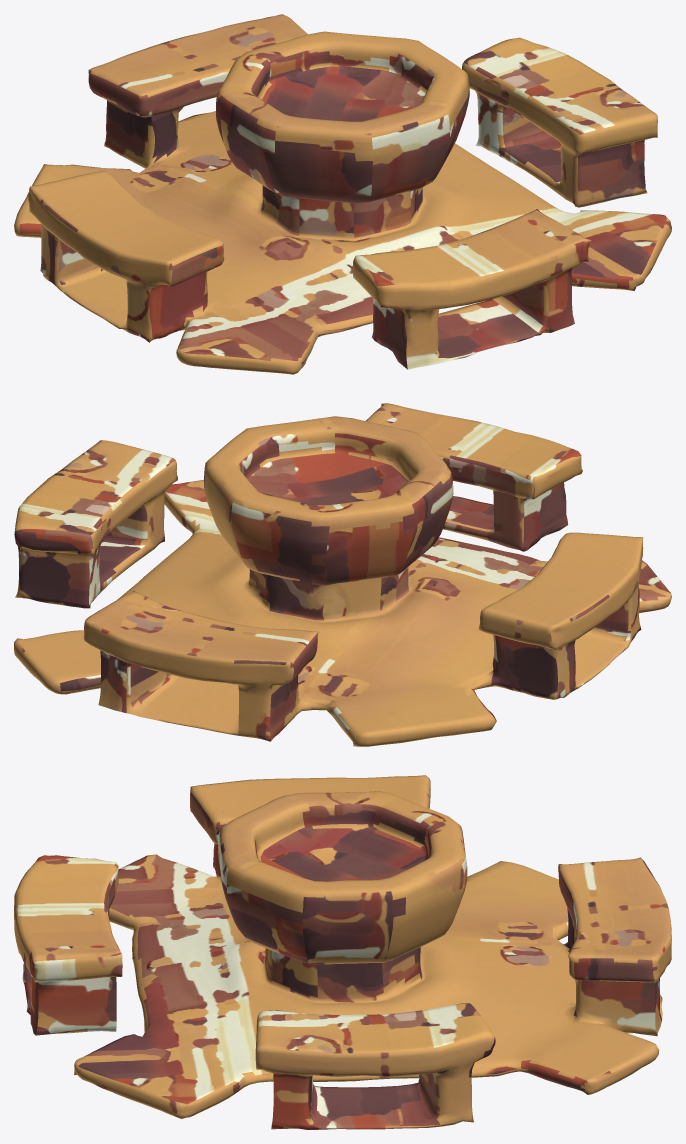
Rendered from B11_PlazaFountain.fbx.
The picture shows the model from 3 angles, top to bottom: view 1: azimuth 30°, elevation 25°; view 2: azimuth 150°, elevation 25°; view 3: azimuth 270°, elevation 25°; orthographic projection. The views are drawn at different scales.
Parts seen in each view (by area): view 1: tripo_node_0e21523b; view 2: tripo_node_0e21523b; view 3: tripo_node_0e21523b.
Part boxes in pixels (x1,y1,x2,y2): tripo_node_0e21523b: (14,14,671,374); tripo_node_0e21523b: (14,403,671,746); tripo_node_0e21523b: (14,775,671,1129).
Size of the model in its own units: 0.9718 by 0.2559 by 0.978.
